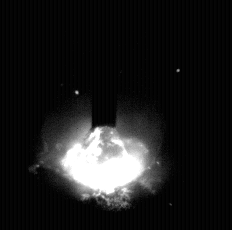arame: (92, 0, 118, 131)
poca: (43, 0, 164, 230)
